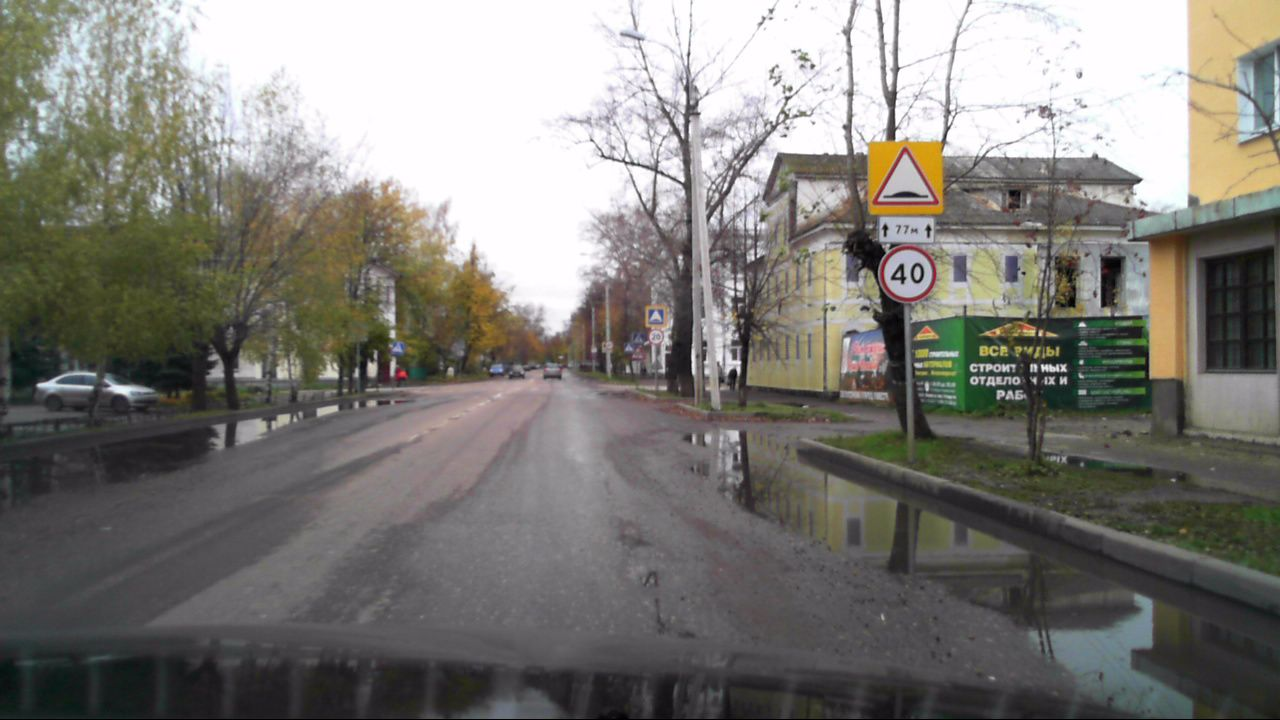speed_warning_40: (878, 244, 938, 304)
